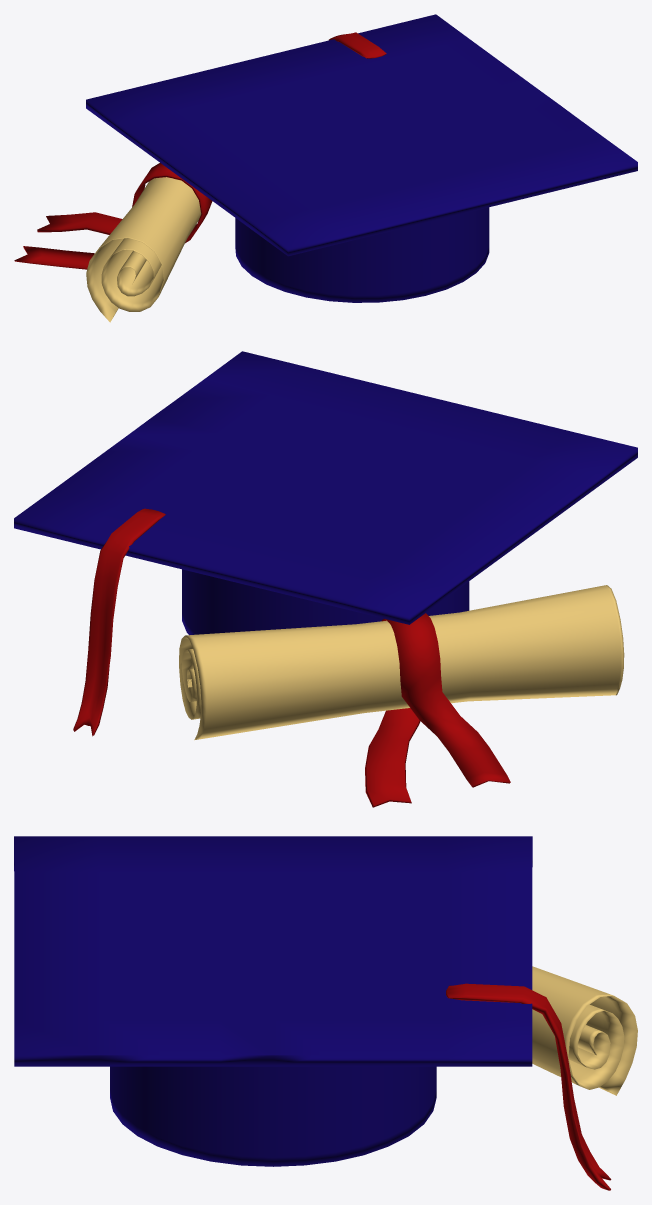
Rendered from hat.gltf.
3 views of the same model, one above another, from view 1: azimuth 30°, elevation 25°; view 2: azimuth 150°, elevation 25°; view 3: azimuth 270°, elevation 25° (orthographic). The views are drawn at different scales.
Parts seen in each view (by area): view 1: Cylinder_2, BezierCurve_3, Plane_4; view 2: Cylinder_2, BezierCurve_3, Plane_4; view 3: Cylinder_2, BezierCurve_3, Plane_4.
Boxes of the visible parts, left/top/right/bottom form: Cylinder_2: left=86, top=14, right=637, bottom=302; BezierCurve_3: left=14, top=163, right=212, bottom=322; Plane_4: left=329, top=32, right=386, bottom=58; Cylinder_2: left=14, top=351, right=637, bottom=634; BezierCurve_3: left=179, top=585, right=624, bottom=807; Plane_4: left=73, top=508, right=165, bottom=736; Cylinder_2: left=14, top=836, right=532, bottom=1166; BezierCurve_3: left=532, top=966, right=637, bottom=1095; Plane_4: left=446, top=983, right=611, bottom=1190.
Bounding box in the file's own units: 13.43 × 4.42 × 12.72.
